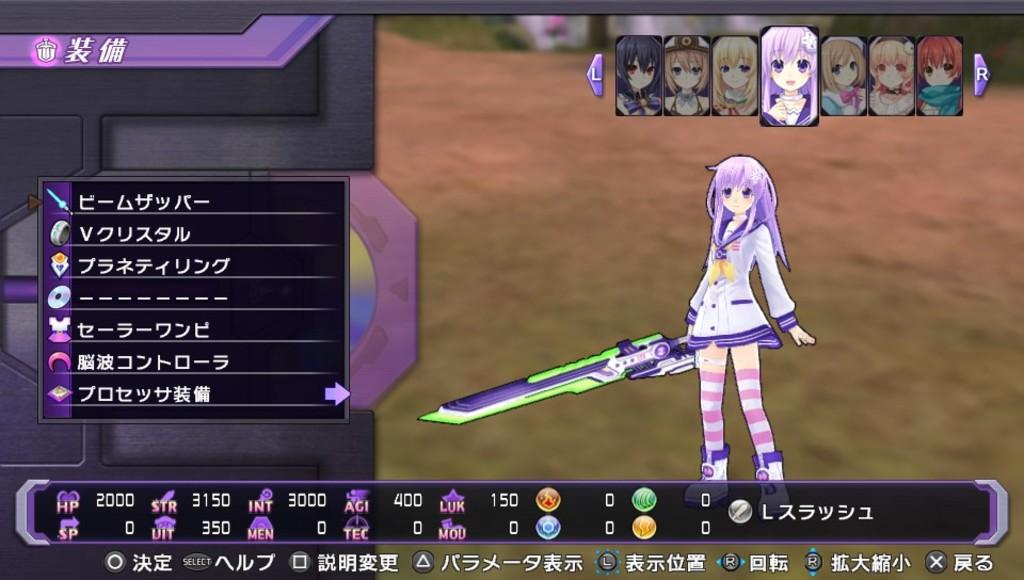Sword: (419, 333, 697, 425)
